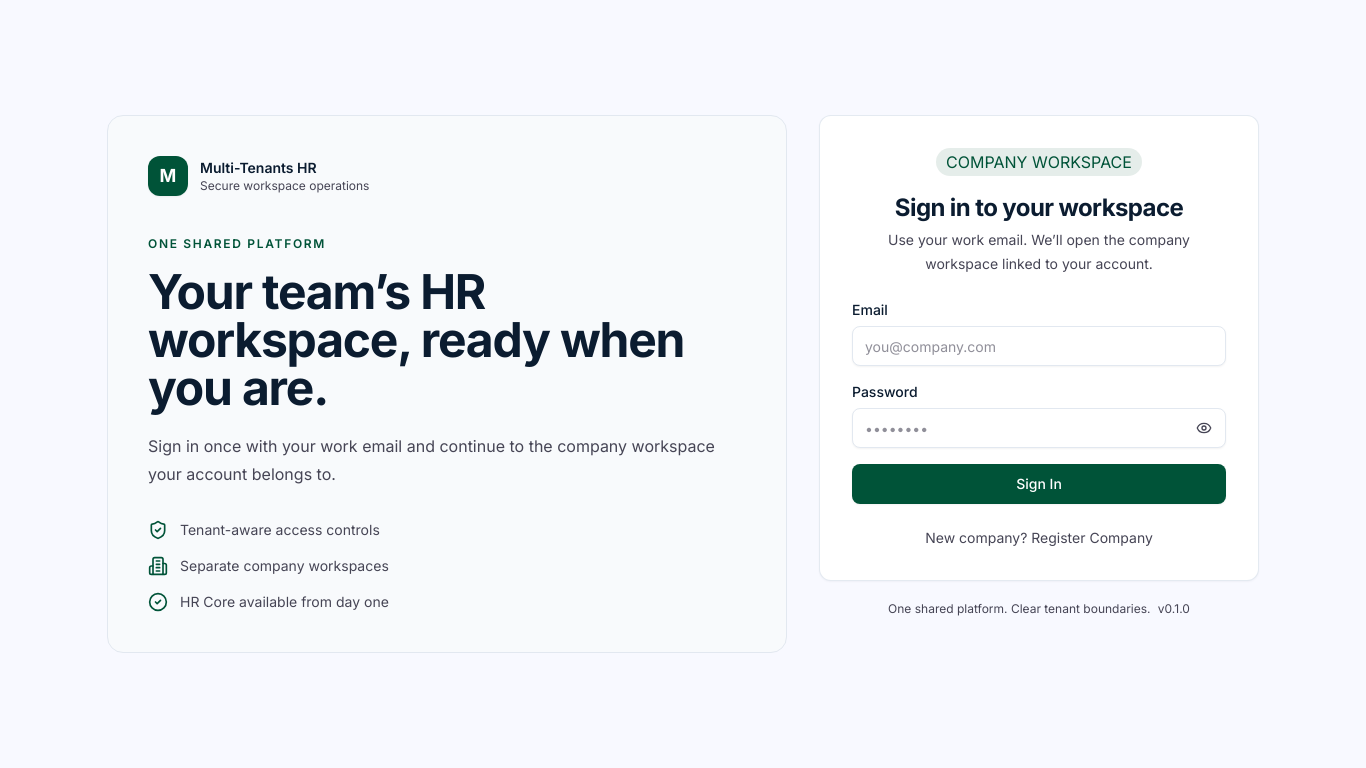
Test case: public login on the marketing host › does not send a platform admin into a company workspace
The width and height of the screenshot is (1366, 768).
Type "james@hr.com" into the field labelled "Email". click: (1039, 346)
box: [852,326,1226,366]
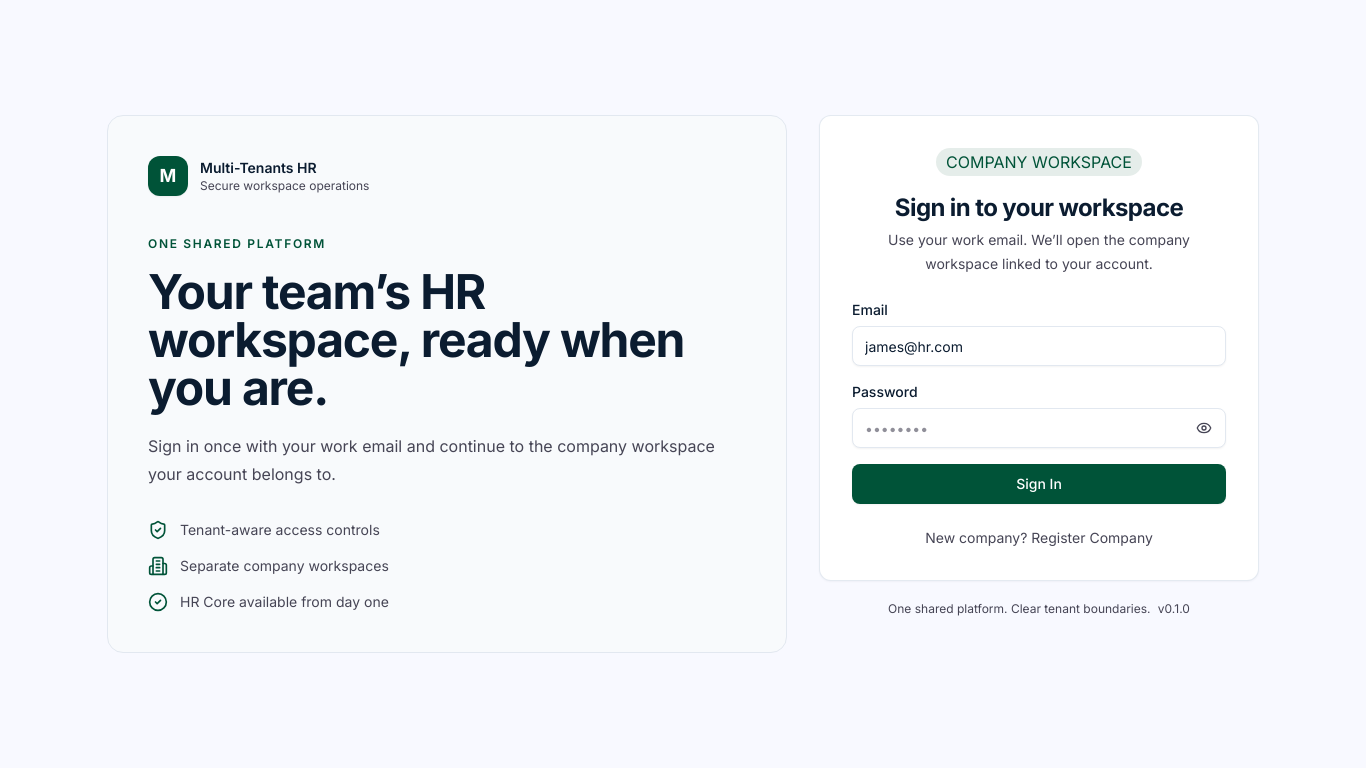
Type "password123" into the password field labelled "Password". click: (1039, 428)
box: [852,408,1226,448]
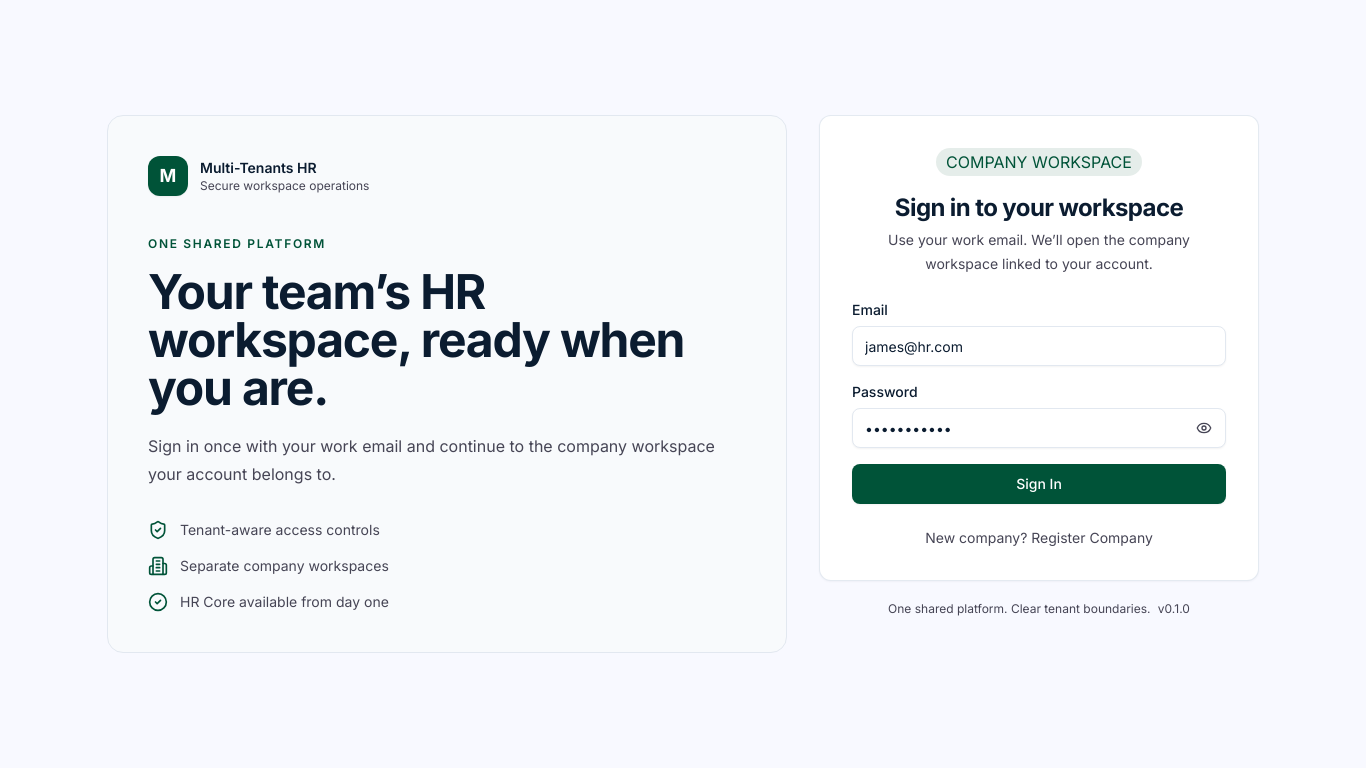
Click the button "Sign In". click: (1039, 484)
box: [852,464,1226,504]
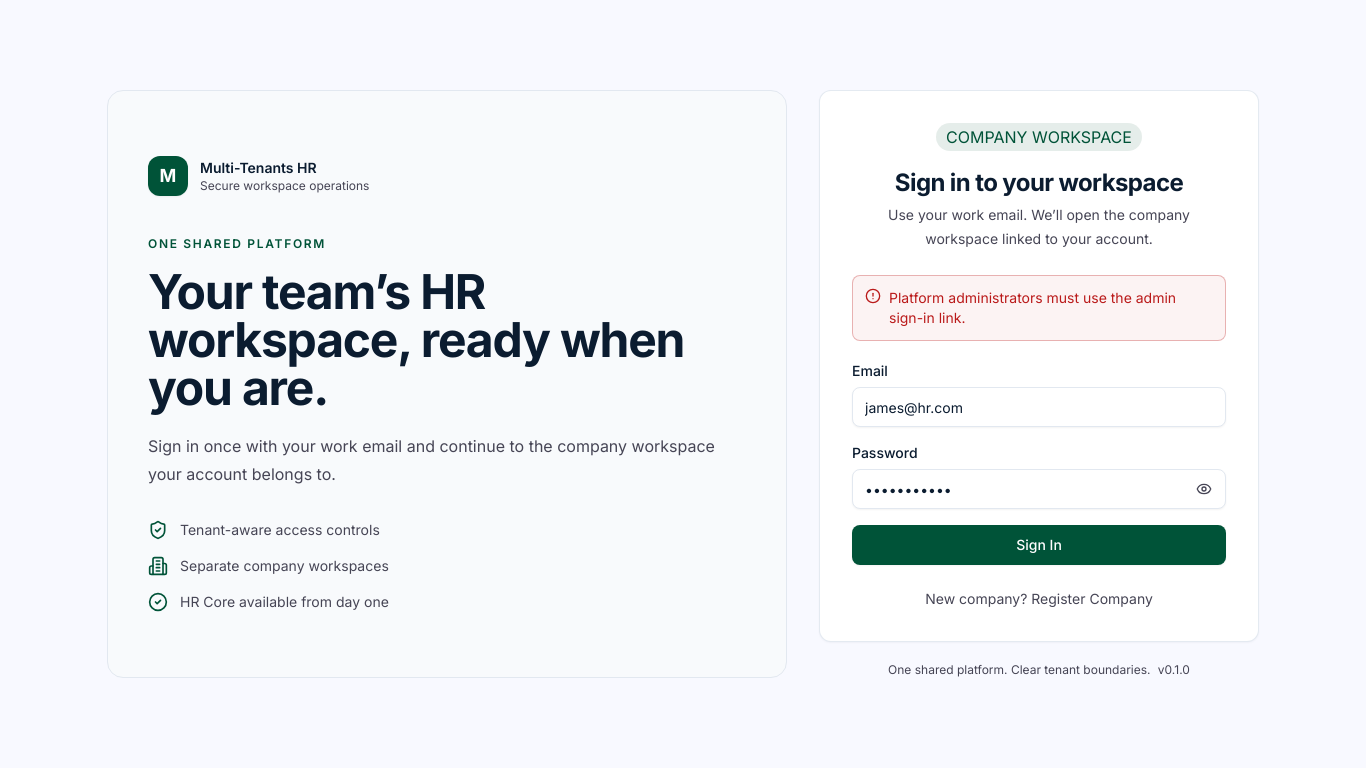
Expected: the message "Platform administrators must use the admin sign-in link." is shown, [852,275,1226,341]
